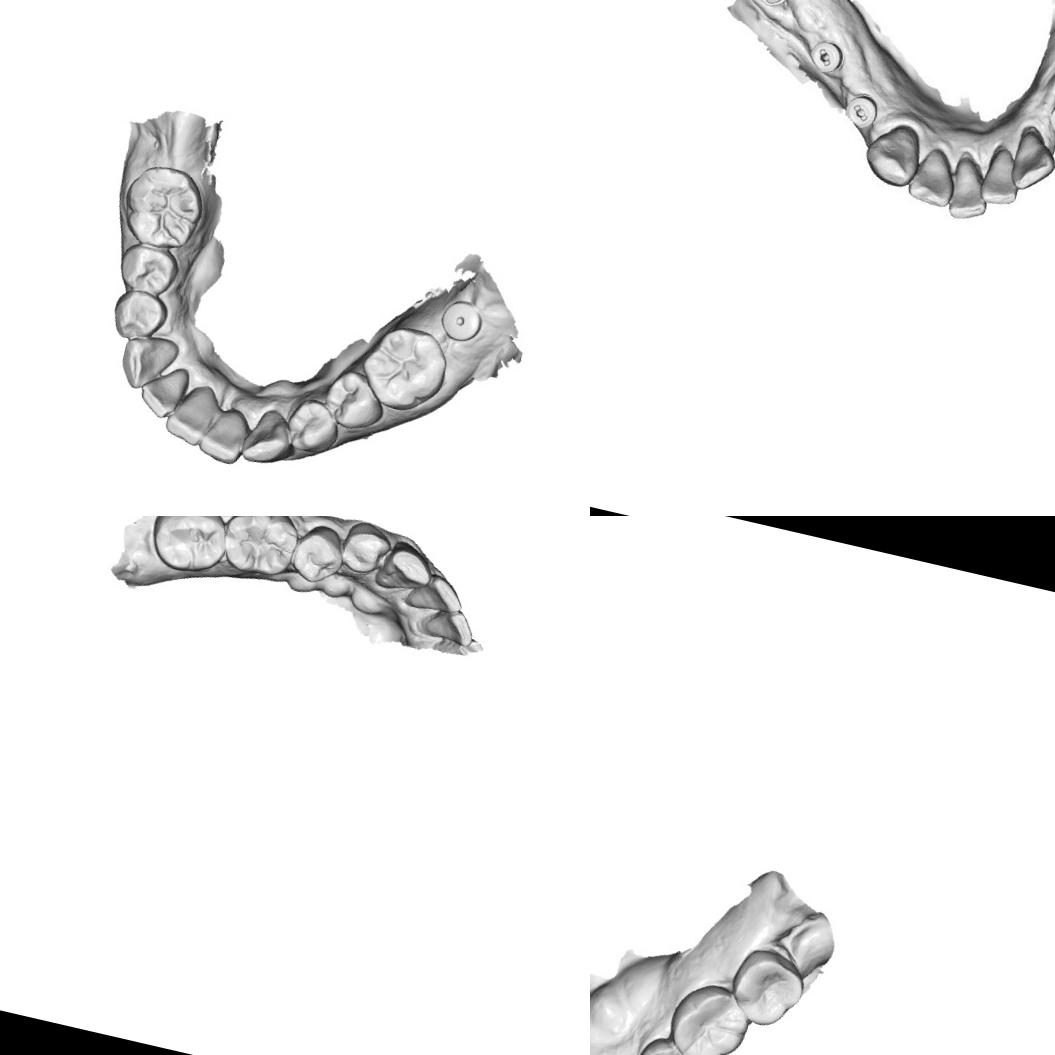canine: (858, 116, 926, 191), (115, 328, 183, 398), (370, 537, 438, 601), (236, 404, 300, 471)
implant: (435, 295, 487, 346)
implant_minus: (839, 89, 884, 134), (803, 34, 847, 79), (746, 0, 799, 13), (1045, 99, 1055, 140)
incisor: (160, 376, 219, 450), (194, 400, 253, 468), (134, 358, 194, 424), (943, 154, 998, 226), (904, 143, 962, 211), (976, 144, 1028, 211), (1006, 128, 1055, 197), (404, 568, 470, 618), (421, 603, 479, 649)
molar: (352, 317, 455, 420), (114, 156, 212, 256), (723, 943, 811, 1034), (661, 975, 756, 1055), (216, 516, 305, 583), (143, 516, 234, 580)
premolar: (317, 366, 392, 436), (287, 520, 350, 590), (280, 395, 346, 460), (106, 285, 173, 348), (112, 240, 182, 300), (336, 517, 396, 580), (629, 1032, 699, 1055)
